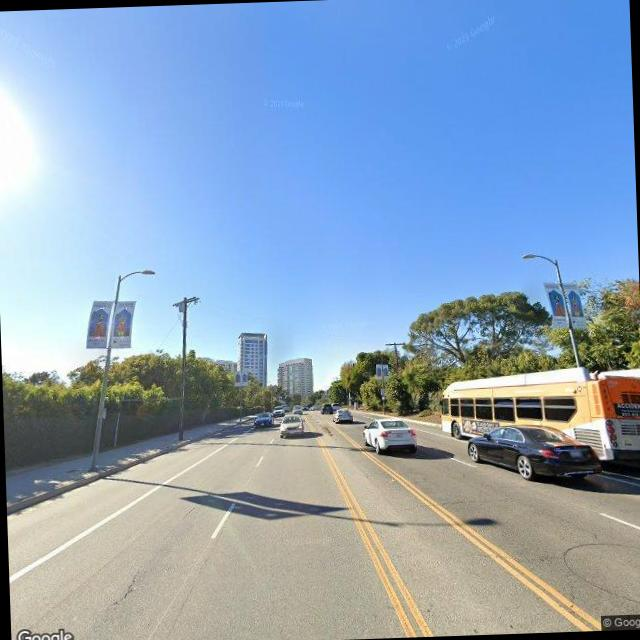crack: (106, 566, 142, 606)
